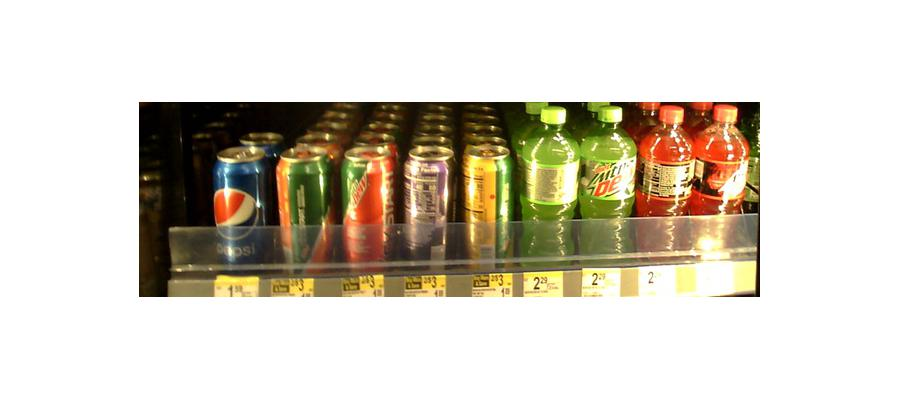bottle: (516, 104, 579, 264), (694, 102, 748, 260), (579, 102, 633, 257), (637, 105, 692, 254), (210, 140, 271, 264), (460, 133, 514, 265), (399, 133, 453, 263), (339, 140, 395, 263), (272, 148, 330, 266)
